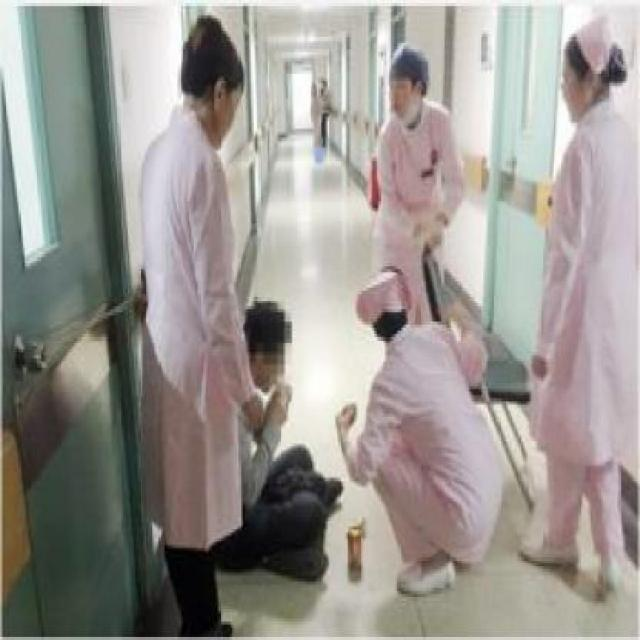fall: (211, 291, 344, 591)
